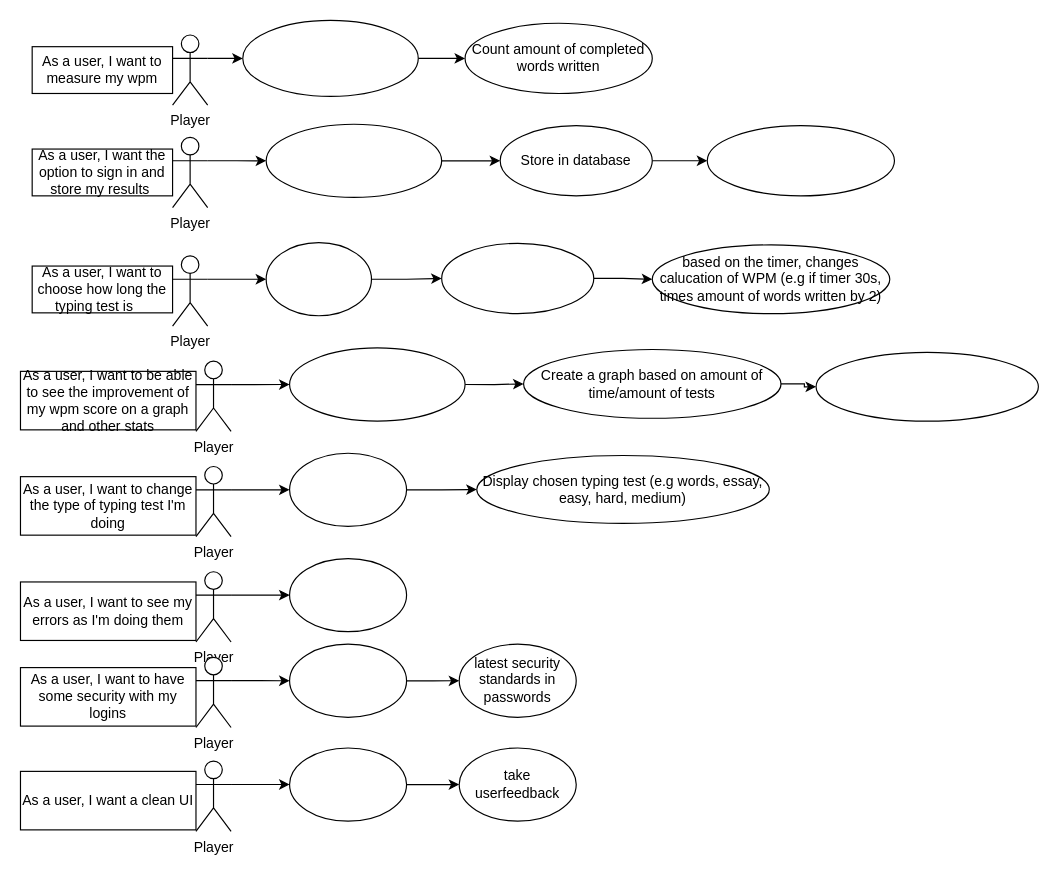
The diagram is 1059 pixels wide and 876 high, and some of its shapes have lost their labels. The shapes that lost their labels are listed below. From the top down, each one's centre as x and y in pixels, then its label:
the point at 330,57: Implement a timer for one minute
the point at 353,160: create account with username and password
the point at 800,160: Store WPM in database assigned to that username
the point at 318,278: Pick timer
the point at 517,278: Start timer once typing test begins
the point at 376,384: Access stored WPM results
the point at 926,386: Store other data and be able to download it
the point at 347,489: Choose option
the point at 347,594: Display errors in red
the point at 347,680: hashed Passwords
the point at 347,784: implement UI
